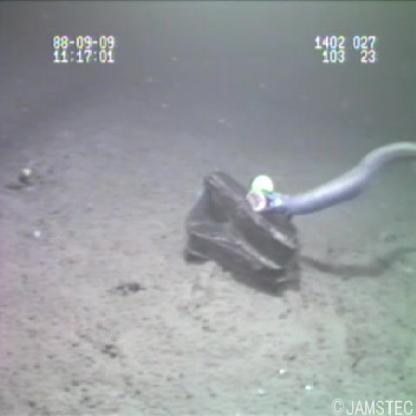Bio: (243, 136, 416, 222)
Rác: (176, 164, 303, 302)
